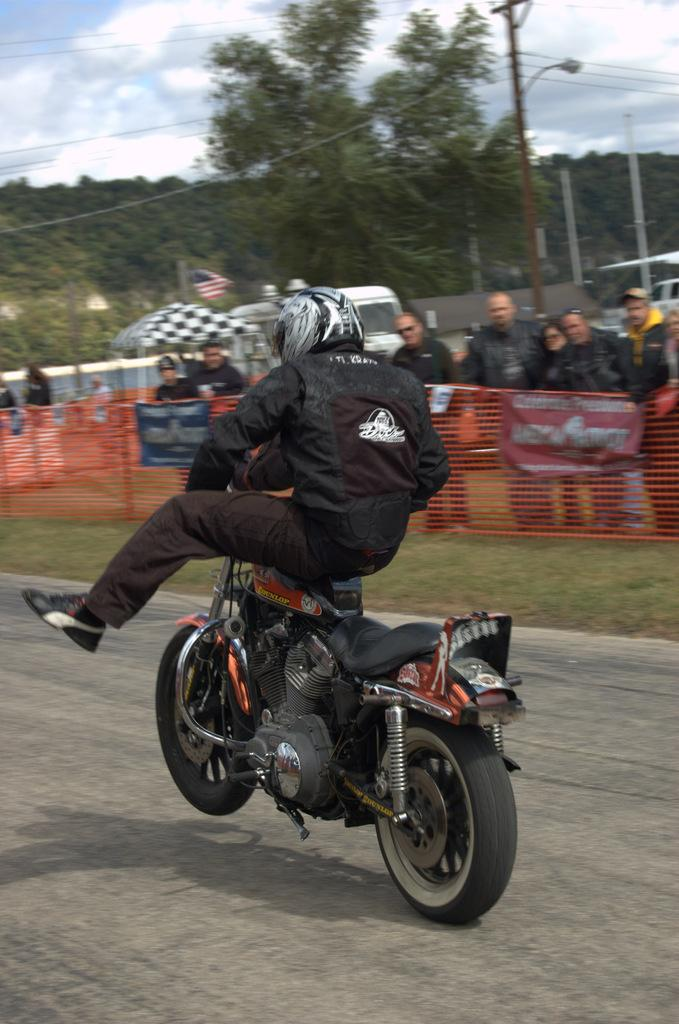helmet: (270, 286, 365, 379)
nohelmet: (615, 286, 651, 328), (485, 290, 518, 331), (558, 308, 590, 349), (393, 312, 424, 348), (540, 322, 572, 353), (202, 342, 223, 371), (158, 355, 177, 384)
